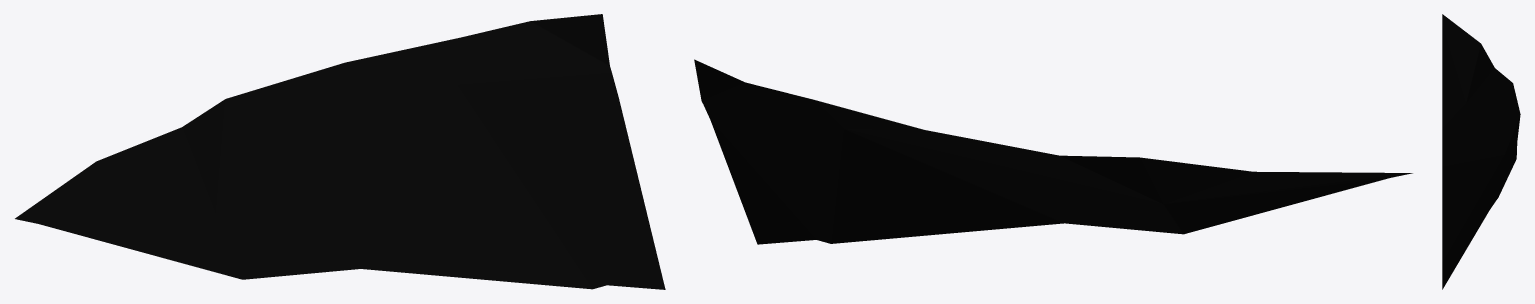
3 views of the same model, side by side, from view 1: azimuth 30°, elevation 25°; view 2: azimuth 150°, elevation 25°; view 3: azimuth 270°, elevation 25° (orthographic). The views are drawn at different scales.
Size of the model in its own units: 2.09 by 0.7051 by 0.431.
1 material, 1 textured.
